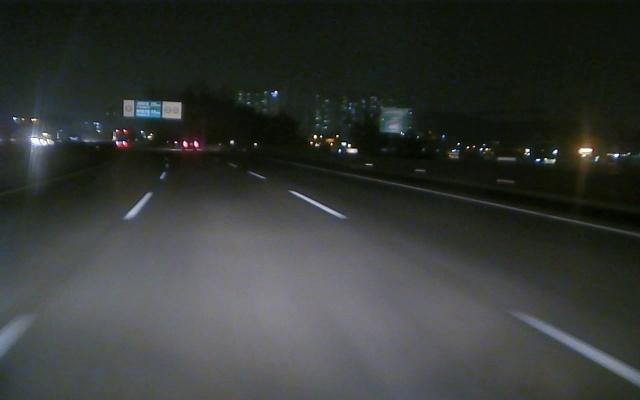lane: (251, 171, 640, 390), (0, 188, 155, 360), (344, 173, 637, 238)
